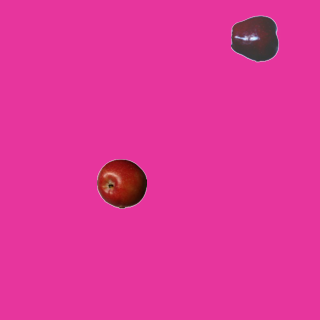Apple Braeburn: (96, 158, 146, 208)
Apple Red Delicious: (230, 13, 280, 63)
